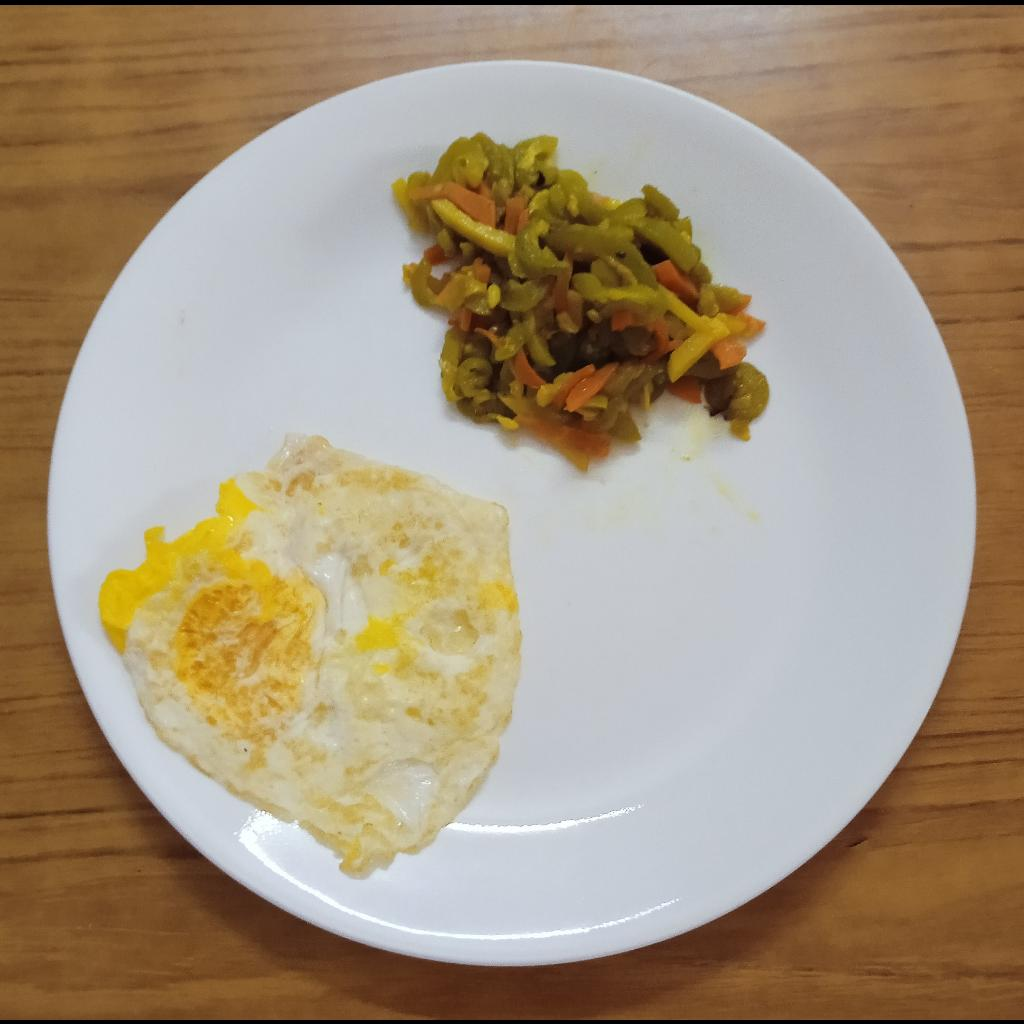egg-poached: (95, 431, 521, 883)
vegetable: (387, 123, 776, 477)
